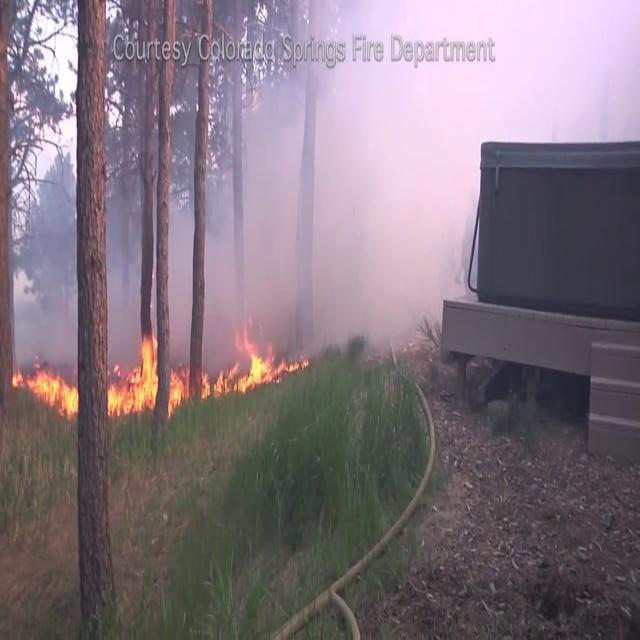Fire: (202, 322, 310, 402), (106, 332, 158, 418), (12, 364, 78, 421), (168, 365, 190, 418)
Smoke: (203, 1, 640, 379), (8, 204, 78, 384), (104, 174, 142, 366), (167, 164, 196, 366)
